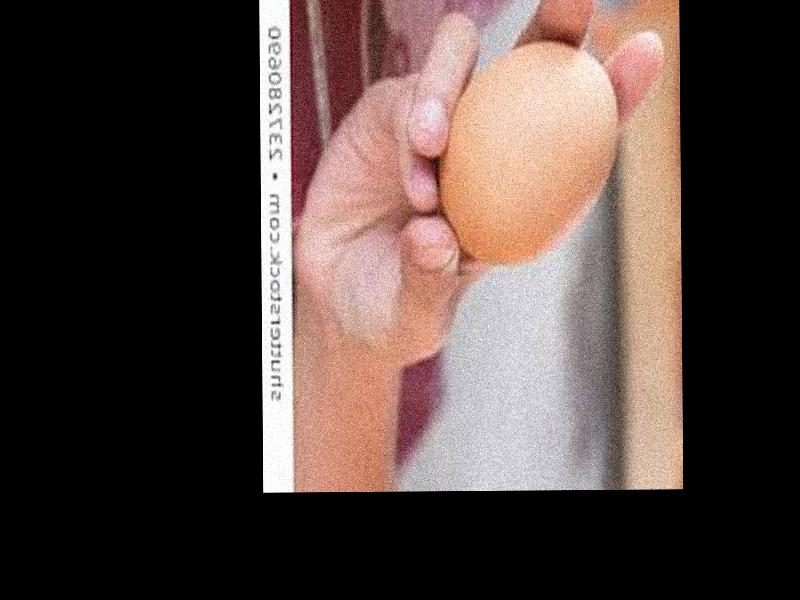Eggs: (439, 38, 617, 262)
